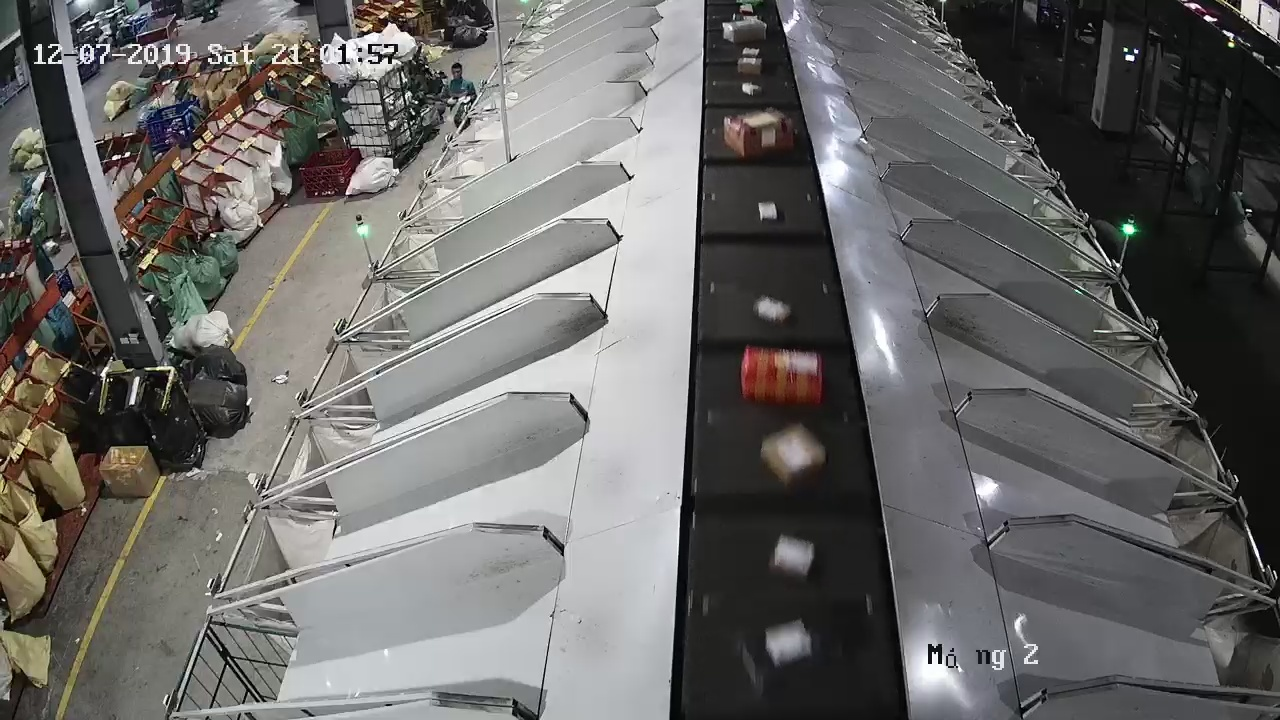parcel: (856, 137, 876, 156)
